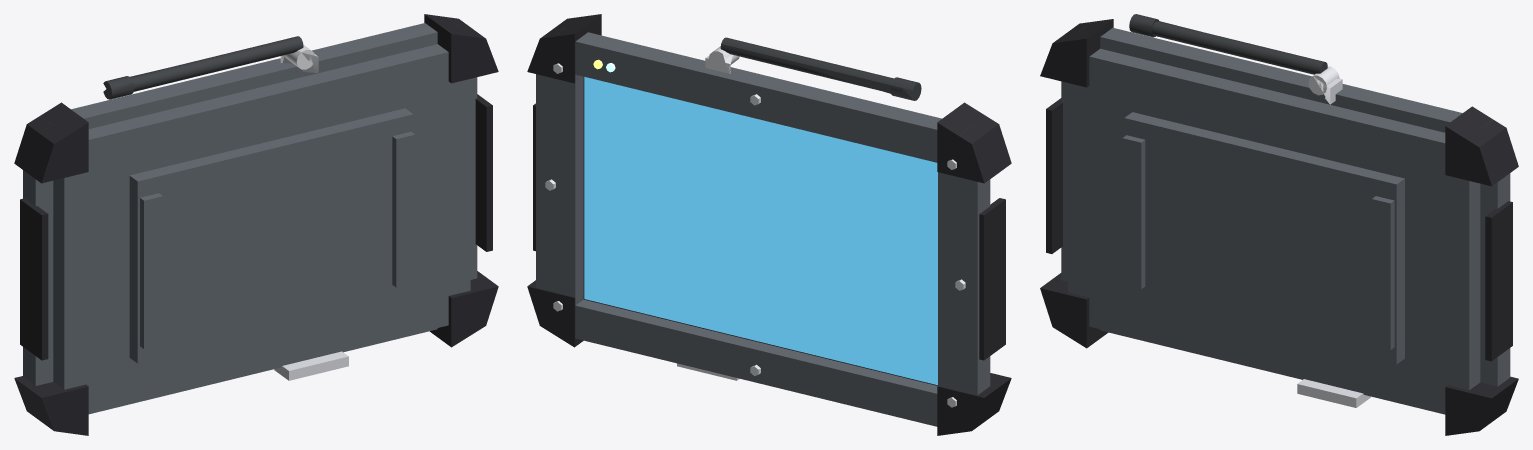
Rendered from R6_Tablet.fbx.
3 renders of one model, left to right at view 1: azimuth 30°, elevation 25°; view 2: azimuth 150°, elevation 25°; view 3: azimuth 330°, elevation 25°, orthographic.
Parts seen in each view (by area): view 1: Tablet_MainFrame, Tablet_BackPlate, Tablet_RubberBumpers, Tablet_AntennaRod, Tablet_Hardware, Tablet_AntennaHinge; view 2: Tablet_Screen, Tablet_MainFrame, Tablet_RubberBumpers, Tablet_AntennaRod, Tablet_Hardware, Tablet_InnerBezel, Tablet_AntennaHinge; view 3: Tablet_MainFrame, Tablet_BackPlate, Tablet_RubberBumpers, Tablet_AntennaRod, Tablet_Hardware, Tablet_AntennaHinge.
Part boxes in pixels (x1=…): Tablet_MainFrame: x1=23, y1=23, x2=477, y2=414; Tablet_BackPlate: x1=129, y1=108, x2=415, y2=363; Tablet_RubberBumpers: x1=14, y1=14, x2=498, y2=435; Tablet_AntennaRod: x1=103, y1=36, x2=303, y2=99; Tablet_Hardware: x1=274, y1=351, x2=348, y2=380; Tablet_AntennaHinge: x1=280, y1=45, x2=318, y2=73; Tablet_Screen: x1=584, y1=77, x2=937, y2=385; Tablet_MainFrame: x1=536, y1=32, x2=990, y2=426; Tablet_RubberBumpers: x1=527, y1=14, x2=1011, y2=435; Tablet_AntennaRod: x1=720, y1=37, x2=921, y2=100; Tablet_Hardware: x1=545, y1=63, x2=965, y2=407; Tablet_InnerBezel: x1=583, y1=77, x2=937, y2=385; Tablet_AntennaHinge: x1=705, y1=46, x2=739, y2=73; Tablet_MainFrame: x1=1061, y1=28, x2=1510, y2=414; Tablet_BackPlate: x1=1122, y1=112, x2=1404, y2=364; Tablet_RubberBumpers: x1=1040, y1=19, x2=1518, y2=435; Tablet_AntennaRod: x1=1129, y1=14, x2=1327, y2=74; Tablet_Hardware: x1=1297, y1=379, x2=1370, y2=407; Tablet_AntennaHinge: x1=1308, y1=66, x2=1342, y2=104.
Size of the model in its own units: 0.29 by 0.2032 by 0.042.
